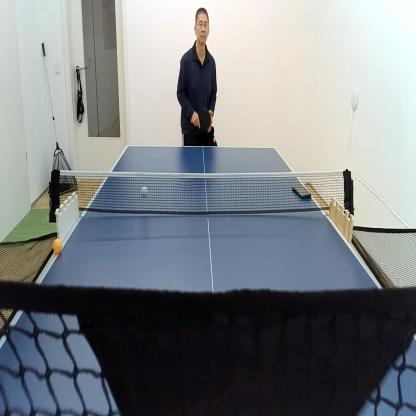Ball: (52, 237, 63, 256), (140, 184, 150, 199)
